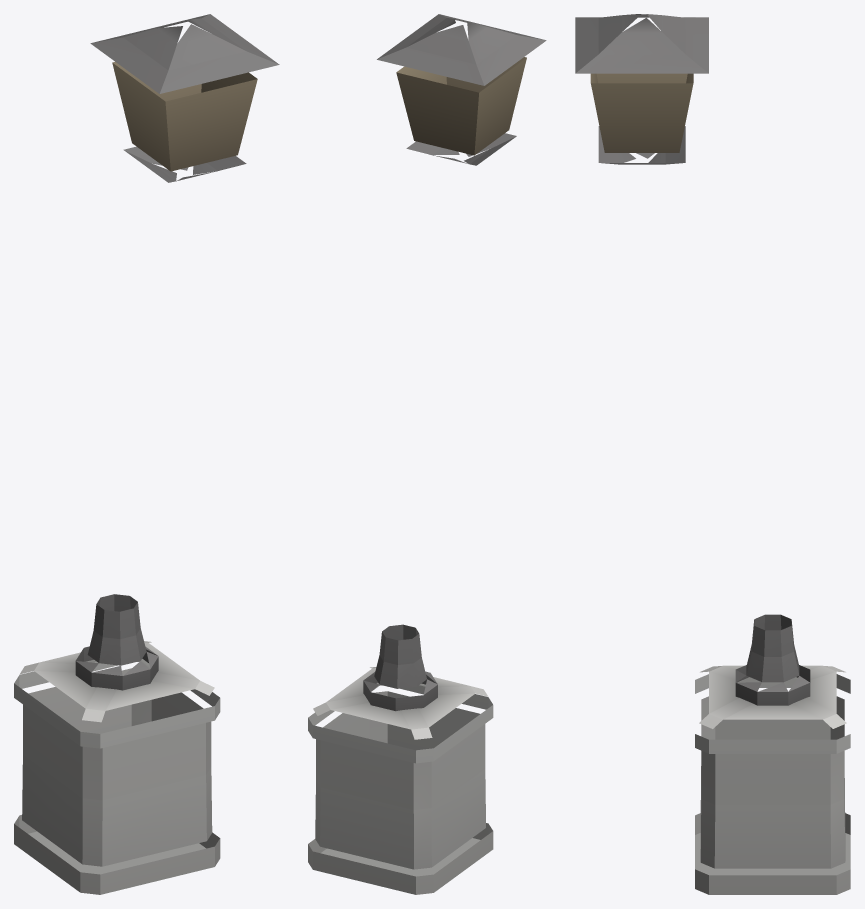
Rendered from lamp.lod.glb.
The picture shows the model from 3 angles, left to right: view 1: azimuth 30°, elevation 25°; view 2: azimuth 150°, elevation 25°; view 3: azimuth 270°, elevation 25°; orthographic projection. The views are drawn at different scales.
Parts seen in each view (by area): view 1: lamp; view 2: lamp; view 3: lamp.
Part boxes in pixels (left/top/right/bottom): lamp: left=14, top=14, right=279, bottom=894; lamp: left=308, top=14, right=546, bottom=894; lamp: left=575, top=14, right=850, bottom=894.
Bounding box in the file's own units: 0.45 × 2.7 × 0.7965.
